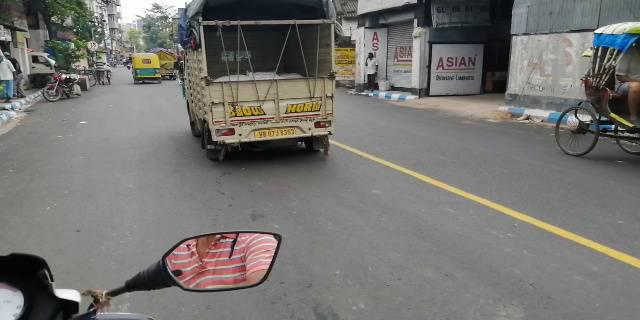Autorickshaw: (125, 51, 166, 87)
Minitruck: (176, 1, 343, 159)
Rickshaw: (553, 18, 640, 162), (39, 68, 80, 105)
